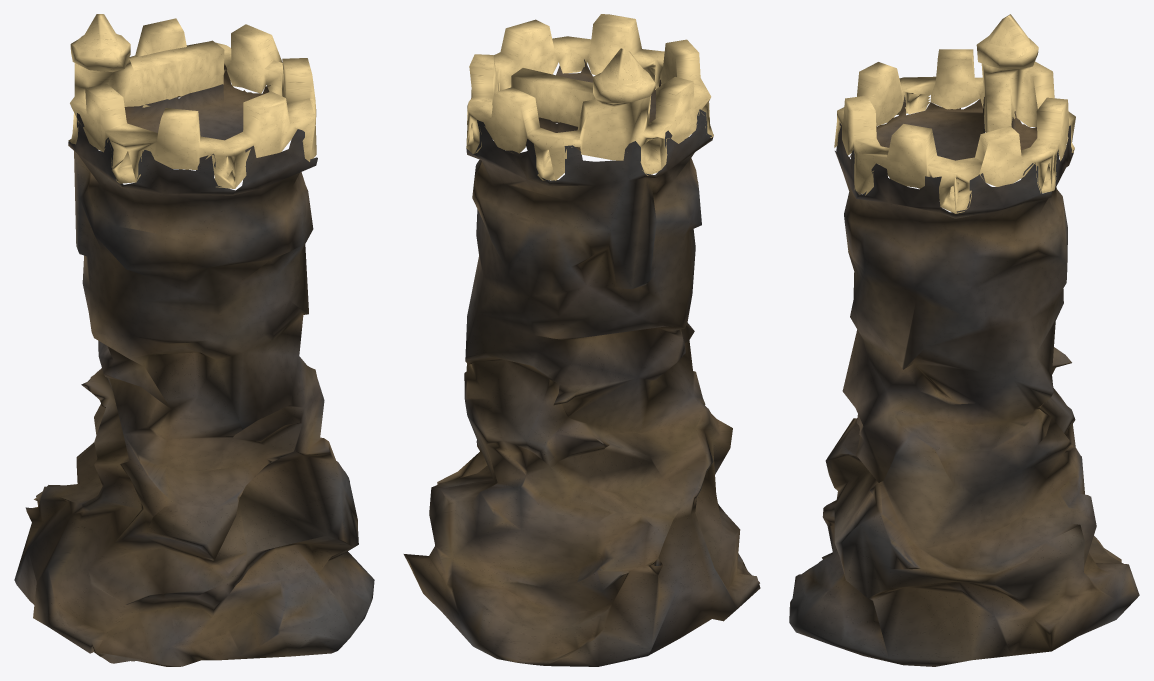
Rendered from Argent_Reliquary_Black_Rook.glb.
The picture shows the model from 3 angles, left to right: view 1: azimuth 30°, elevation 25°; view 2: azimuth 150°, elevation 25°; view 3: azimuth 270°, elevation 25°; orthographic projection. The views are drawn at different scales.
Parts seen in each view (by area): view 1: Argent Reliquary – Black Rook; view 2: Argent Reliquary – Black Rook; view 3: Argent Reliquary – Black Rook.
Boxes of the visible parts, x1,y1,x2,y2 form: Argent Reliquary – Black Rook: [14, 14, 374, 666]; Argent Reliquary – Black Rook: [403, 14, 760, 666]; Argent Reliquary – Black Rook: [789, 14, 1139, 666].
Bounding box in the file's own units: 0.0359 × 0.0682 × 0.0384.
Materials: 2 (2 with a texture image).
